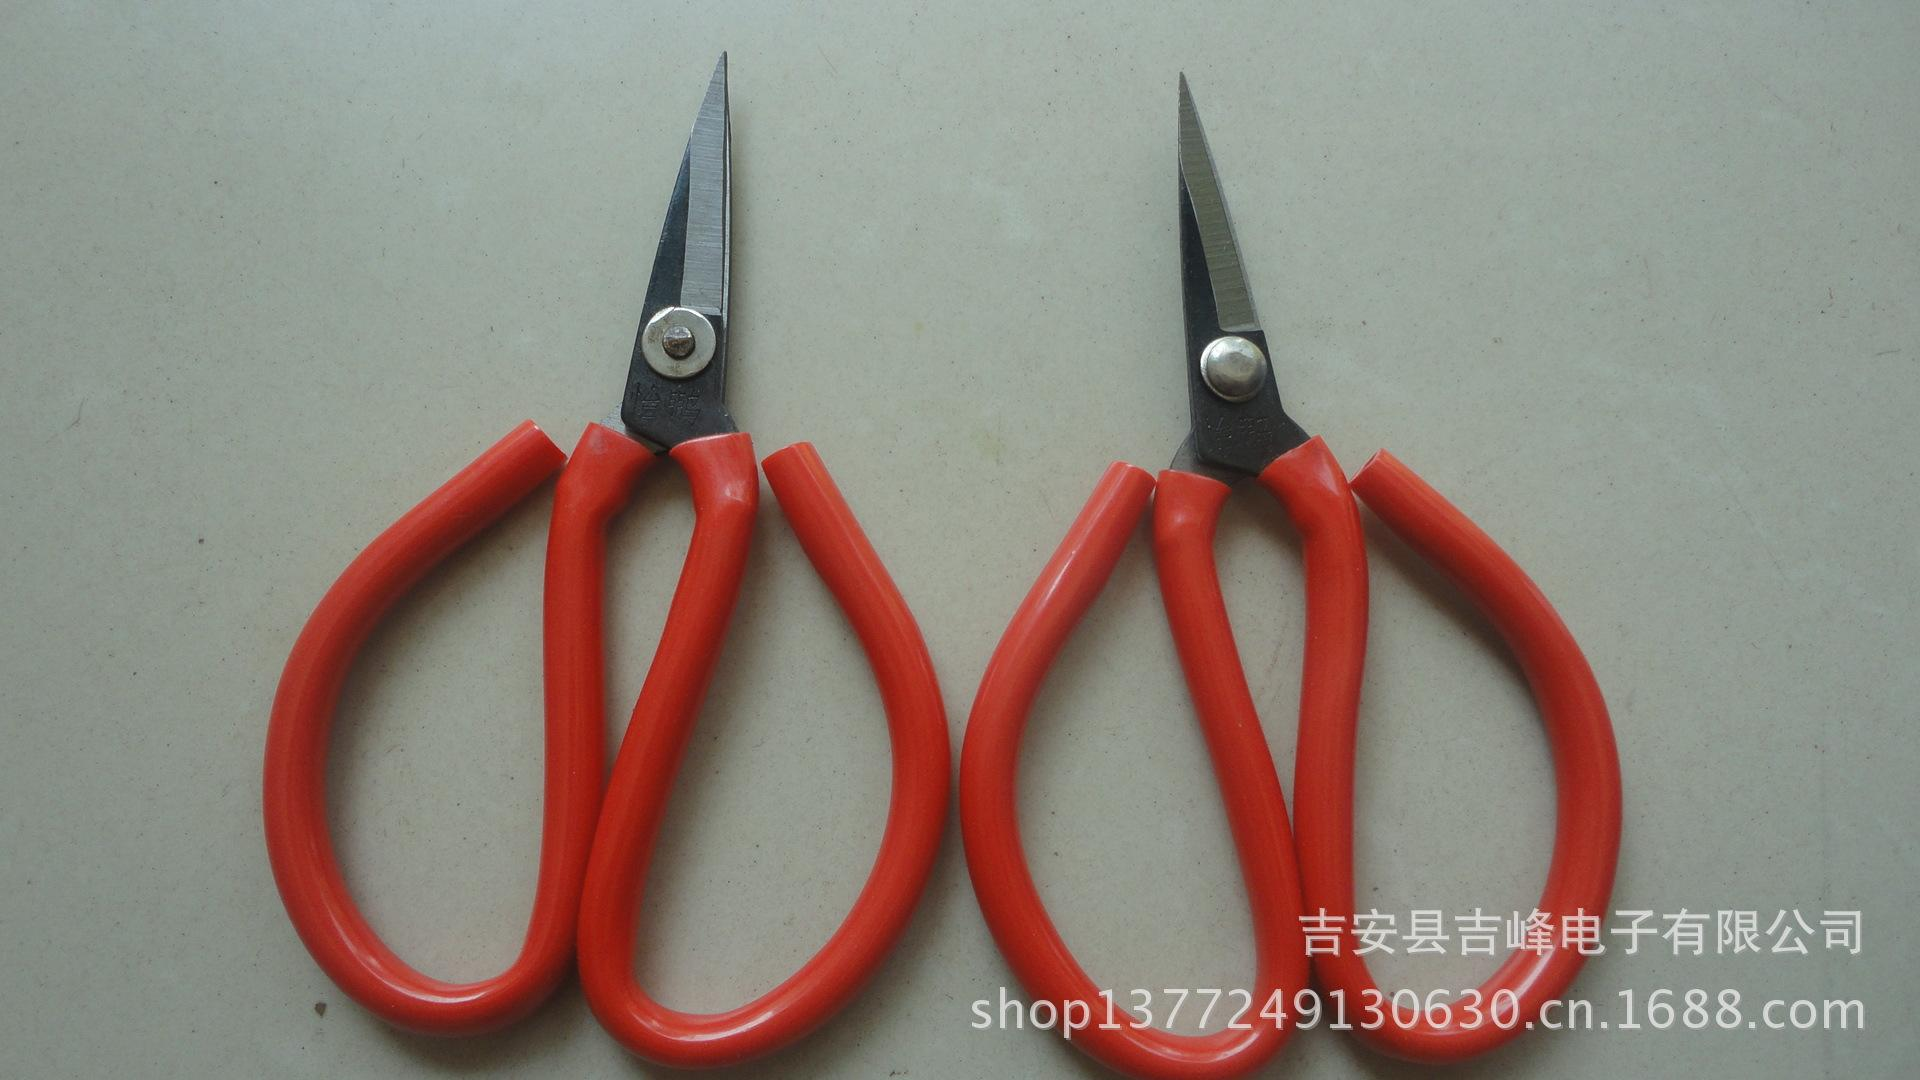scissor: (313, 76, 1594, 1080)
